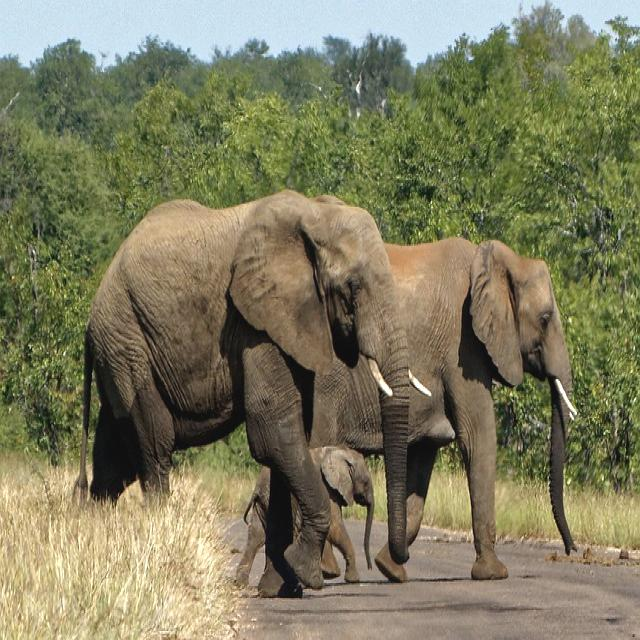FIL: (70, 191, 414, 582), (368, 233, 582, 580), (244, 458, 377, 573)
